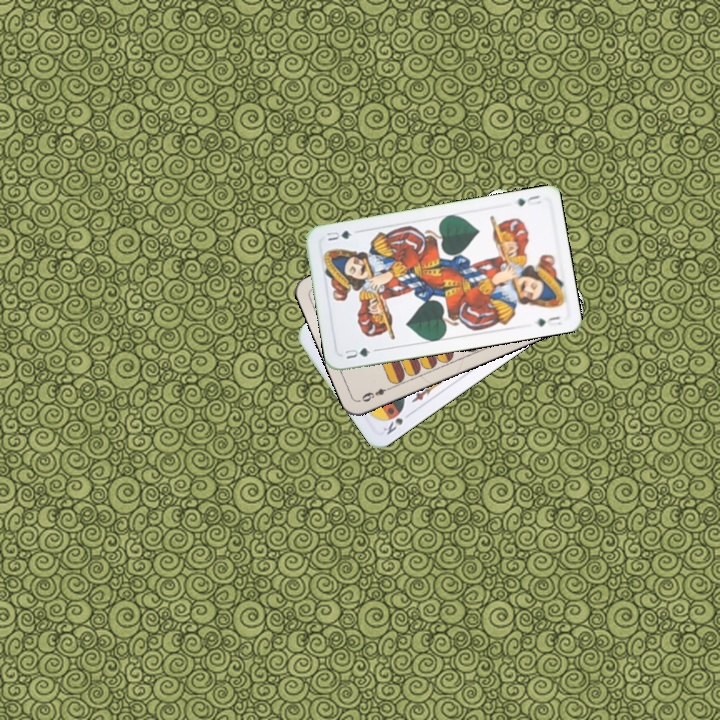E9: (357, 383, 395, 405)
GU: (341, 344, 373, 362), (513, 191, 544, 209)
SK: (379, 414, 406, 437)
